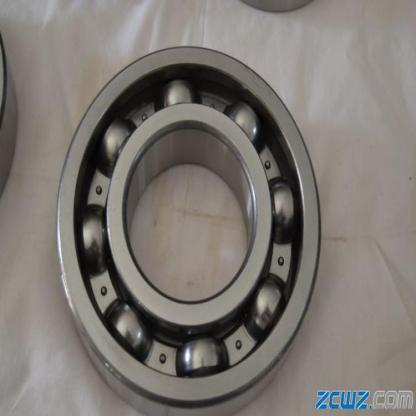FOD: (53, 43, 325, 415)
